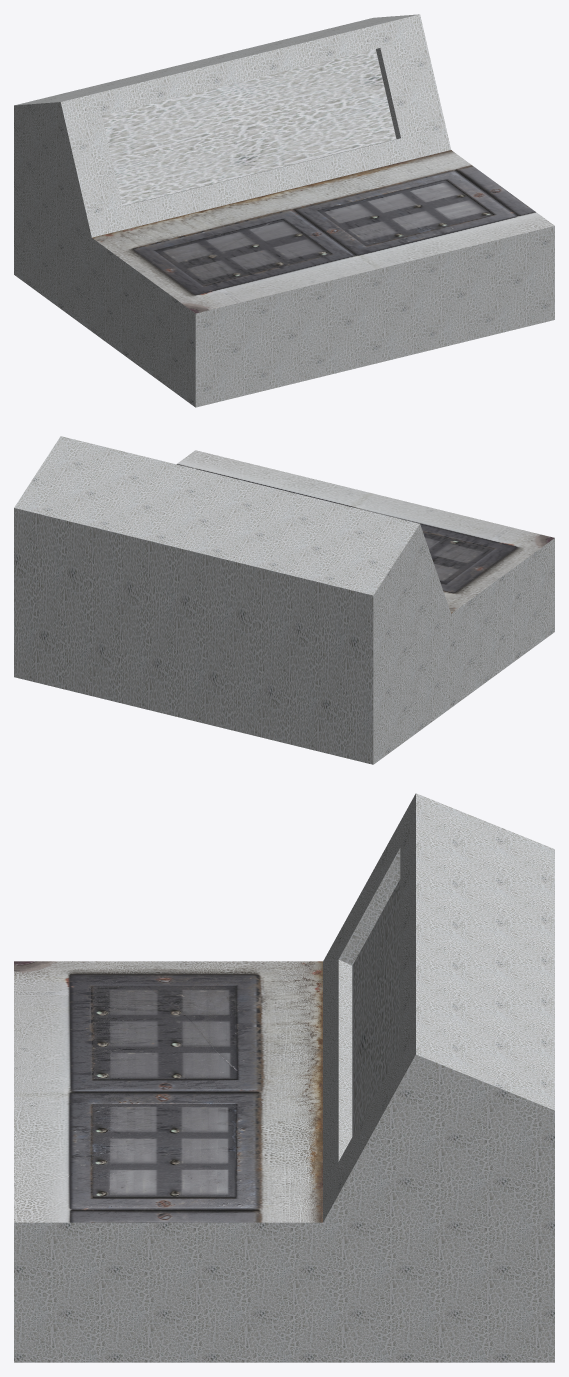
The model's file is control-panel.dae.
3 renders of one model, top to bottom at view 1: azimuth 30°, elevation 25°; view 2: azimuth 150°, elevation 25°; view 3: azimuth 270°, elevation 25°, orthographic. The views are drawn at different scales.
Visible parts, largest first — view 1: panel; view 2: panel; view 3: panel.
Boxes of the visible parts, left/top/right/bottom form: panel: left=14, top=14, right=554, bottom=407; panel: left=14, top=436, right=554, bottom=764; panel: left=14, top=793, right=554, bottom=1362.
Size of the model in its own units: 4 by 3.5 by 2.2.
